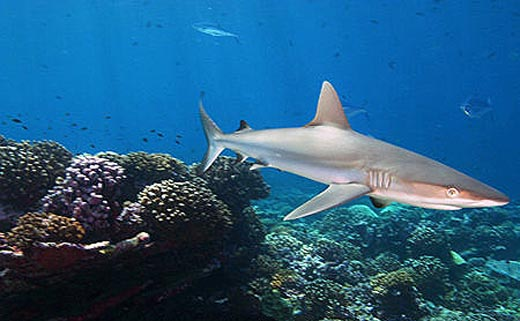Carcharhinus_amblyrhynchos: (196, 84, 518, 225)
